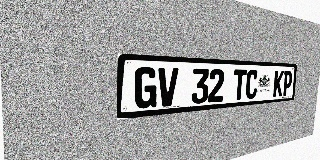2: (208, 69, 225, 103)
3: (191, 68, 209, 104)
C: (245, 70, 258, 99)
G: (134, 67, 158, 109)
K: (273, 70, 284, 97)
P: (282, 71, 293, 96)
T: (232, 69, 247, 100)
V: (157, 67, 178, 107)
